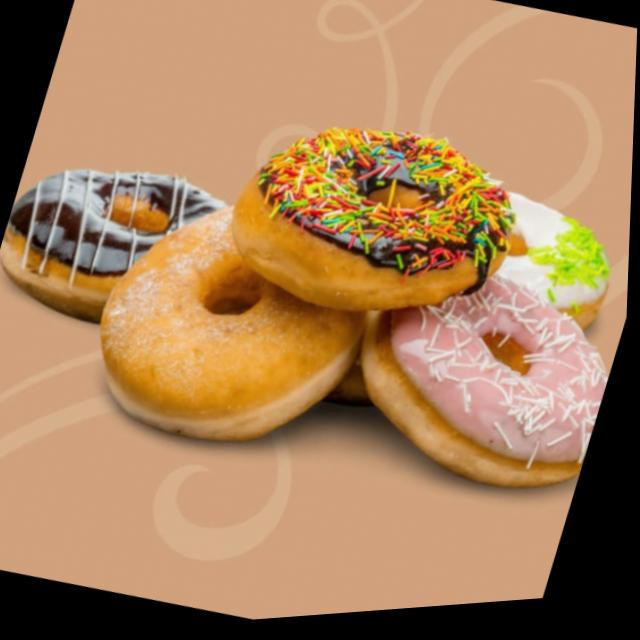donut: (67, 174, 400, 494), (215, 88, 537, 362), (331, 244, 632, 532), (0, 129, 246, 351)
